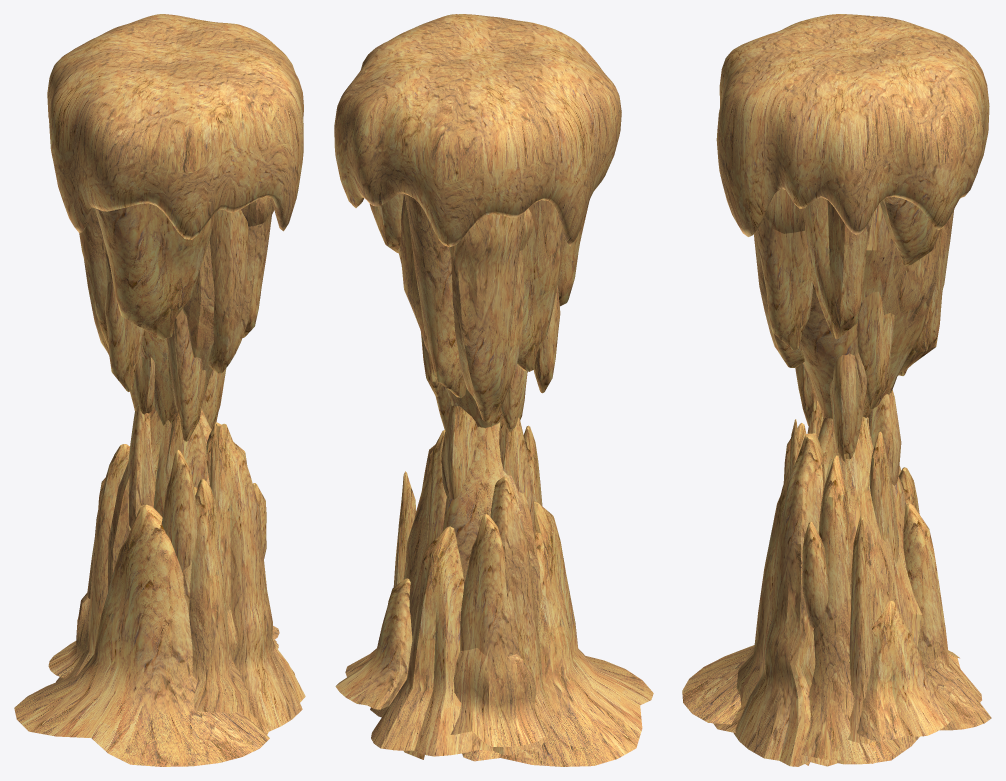
File: Floating_Garden4.fbx
3 views of the same model, side by side, from view 1: azimuth 30°, elevation 25°; view 2: azimuth 150°, elevation 25°; view 3: azimuth 270°, elevation 25° (orthographic). The views are drawn at different scales.
Parts seen in each view (by area): view 1: Floating_Land_4; view 2: Floating_Land_4; view 3: Floating_Land_4.
Part boxes in pixels (left/top/right/bottom): Floating_Land_4: left=14, top=14, right=305, bottom=766; Floating_Land_4: left=334, top=14, right=653, bottom=766; Floating_Land_4: left=682, top=14, right=991, bottom=766.
Size of the model in its own units: 29.54 by 69.38 by 28.8.
